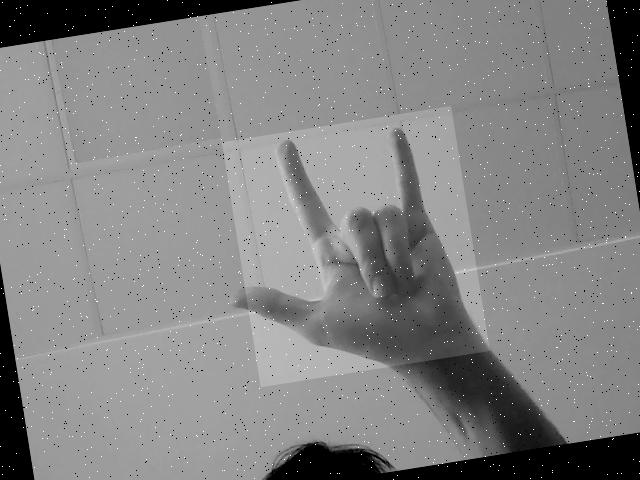I_Love_You: (222, 106, 489, 387)
